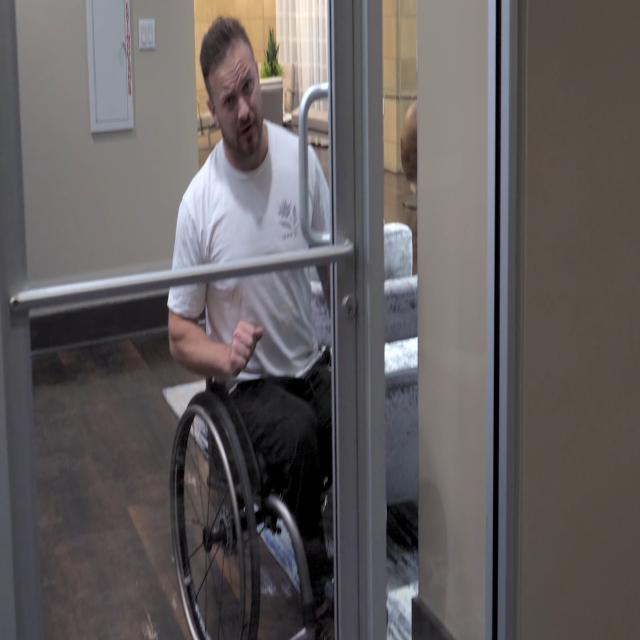wheelchairs: (168, 265, 393, 640)
